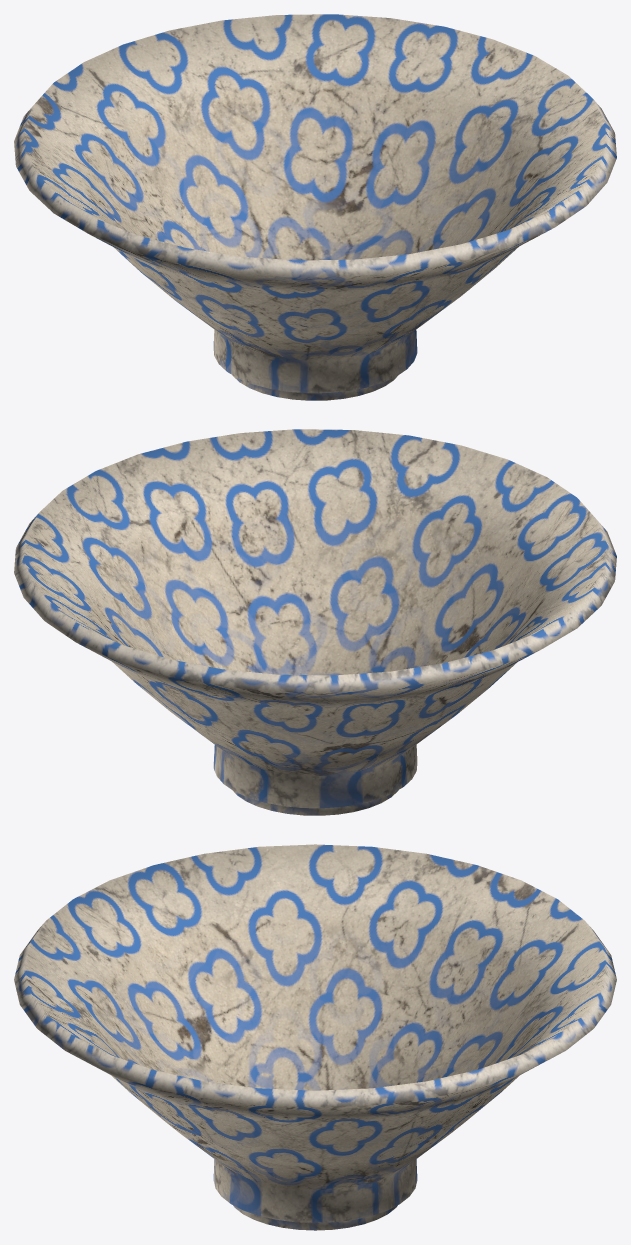
The model's file is Bowl.fbx.
3 views of the same model, one above another, from view 1: azimuth 30°, elevation 25°; view 2: azimuth 150°, elevation 25°; view 3: azimuth 270°, elevation 25° (orthographic).
Visible parts, largest first — view 1: Bowl.006; view 2: Bowl.006; view 3: Bowl.006.
Boxes of the visible parts, x1,y1,x2,y2 form: Bowl.006: (14, 14, 616, 400); Bowl.006: (14, 429, 616, 815); Bowl.006: (14, 844, 616, 1230).
Size of the model in its own units: 107 by 44.17 by 107.
